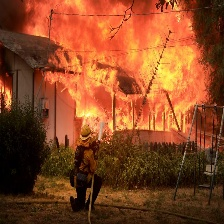fire: (25, 2, 218, 137), (1, 72, 15, 111)
